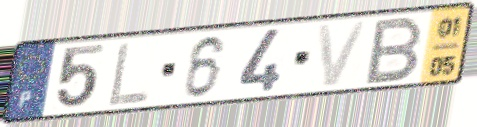4: (236, 26, 287, 95)
5: (54, 44, 109, 111)
6: (184, 34, 226, 99)
B: (361, 14, 426, 87)
L: (105, 39, 152, 109)
V: (314, 18, 372, 90)
